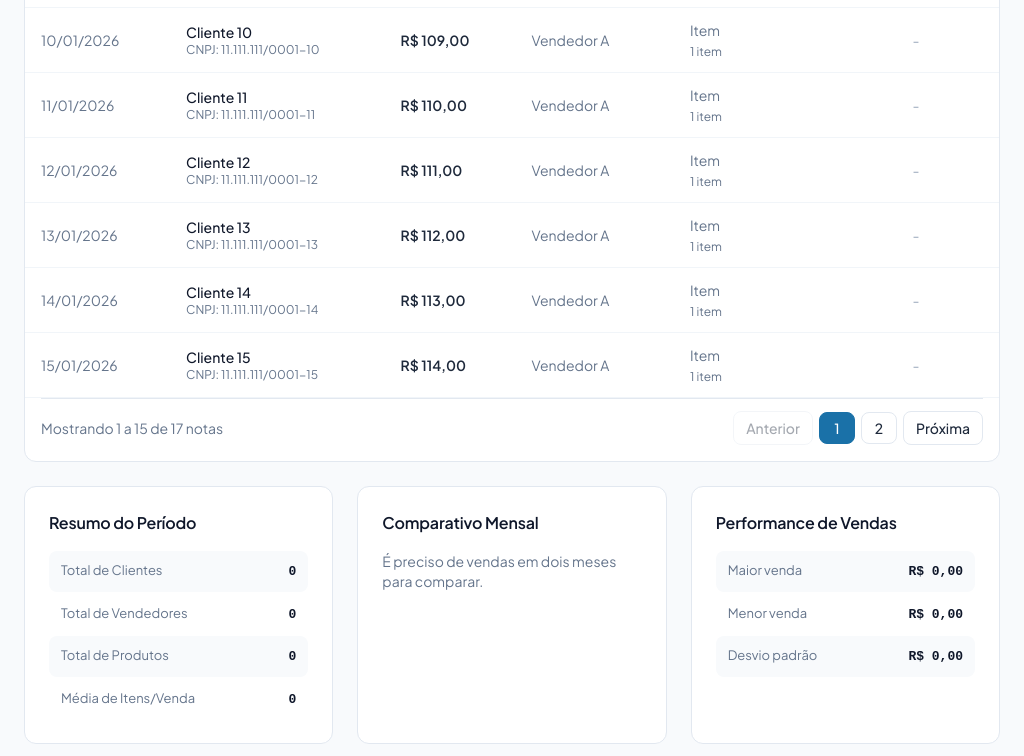
Scenario: paginacao em Vendas › filtrar volta para a primeira pagina
This screenshot has width=1024, height=756.
(page scrolled)
Click the button "Próxima" at (943, 428), box [903,411,983,445]
(page scrolled)
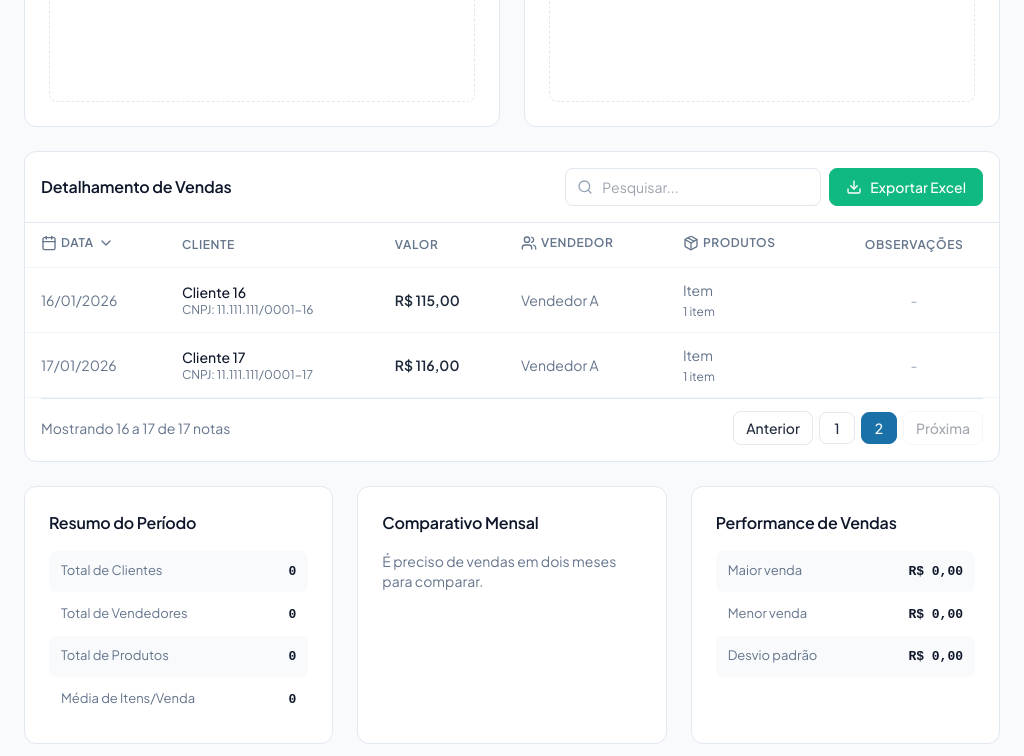
Expected: the text "Mostrando 16 a 17 de 17 notas" is shown, [41,418,230,438]
Type "Cliente 0" into the field with placeholder "Pesquisar..." at (693, 187), box [565,168,821,206]
(page scrolled)
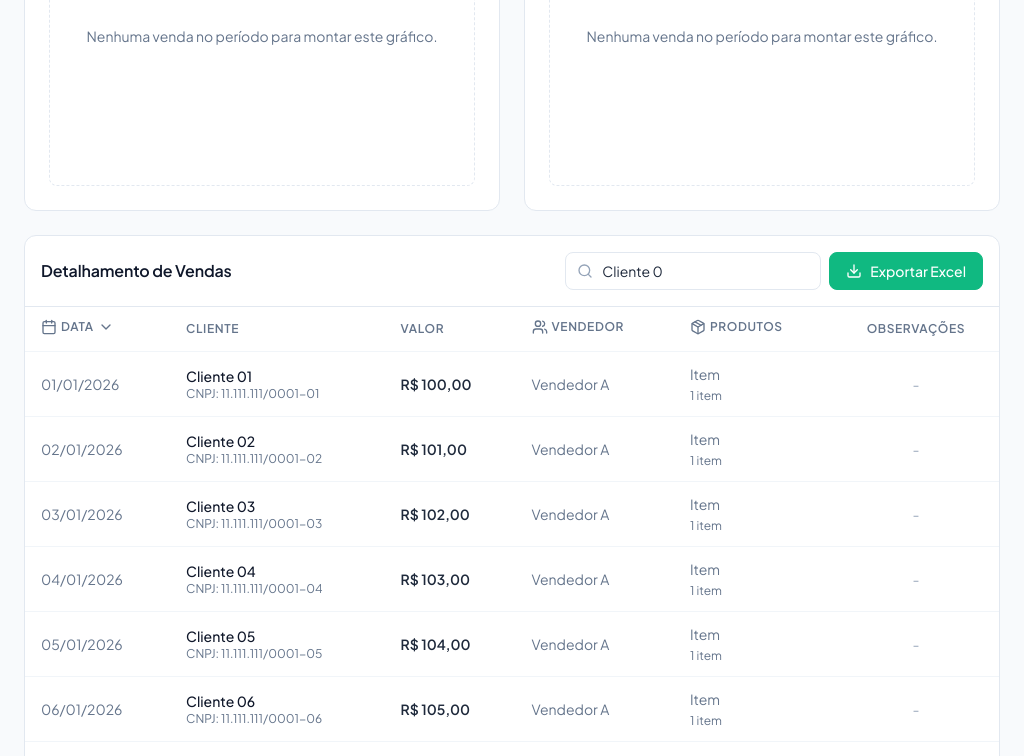
Expected: the row that starts with "Cliente 01" is shown, [25,352,999,416]
